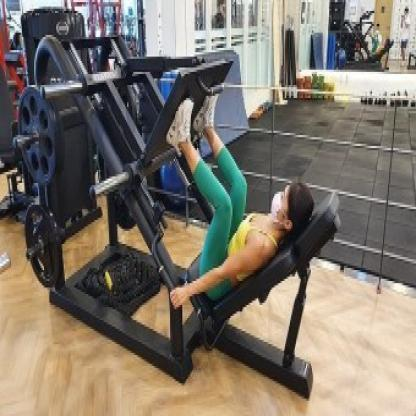leg press: (11, 13, 351, 405)
